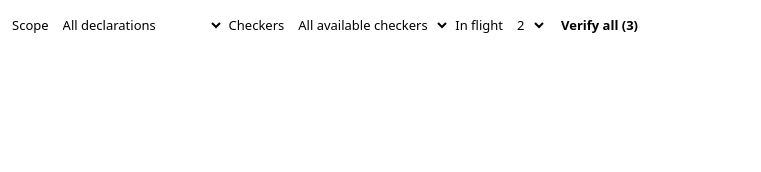
project verification toolbar › holds the shared busy lock and stops after active declarations
Click the button "Verify all (3)": {"x": 600, "y": 25} [552,13,647,37]
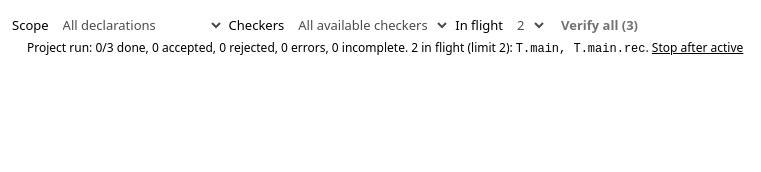
Result: the button "Verify all (3)" is disabled at [552,13,647,37]
Result: the dropdown named "Verification scope" is disabled at [53,12,224,38]
Result: the text "2 in flight" shows "T.main.rec" at [516,42,646,56]
Click the button "Stop after active": {"x": 698, "y": 48} [652,40,743,57]
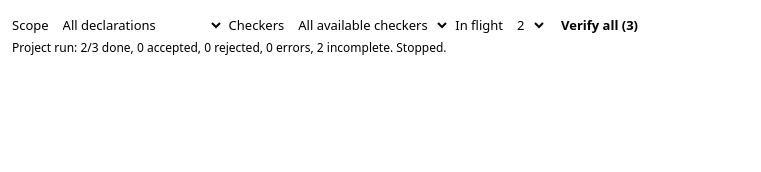
Result: the text "Waiting for active jobs" is shown at [12,39,447,56]
Result: the text "Project run: 2/3 done" shows "Stopped." at [390,39,446,56]
